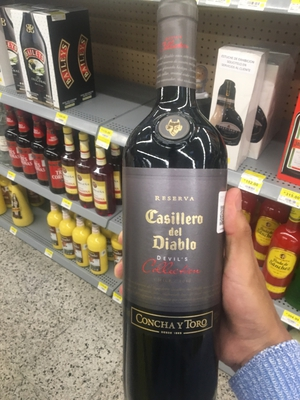casillero del diablo devils collection rojo: (115, 16, 227, 400)
